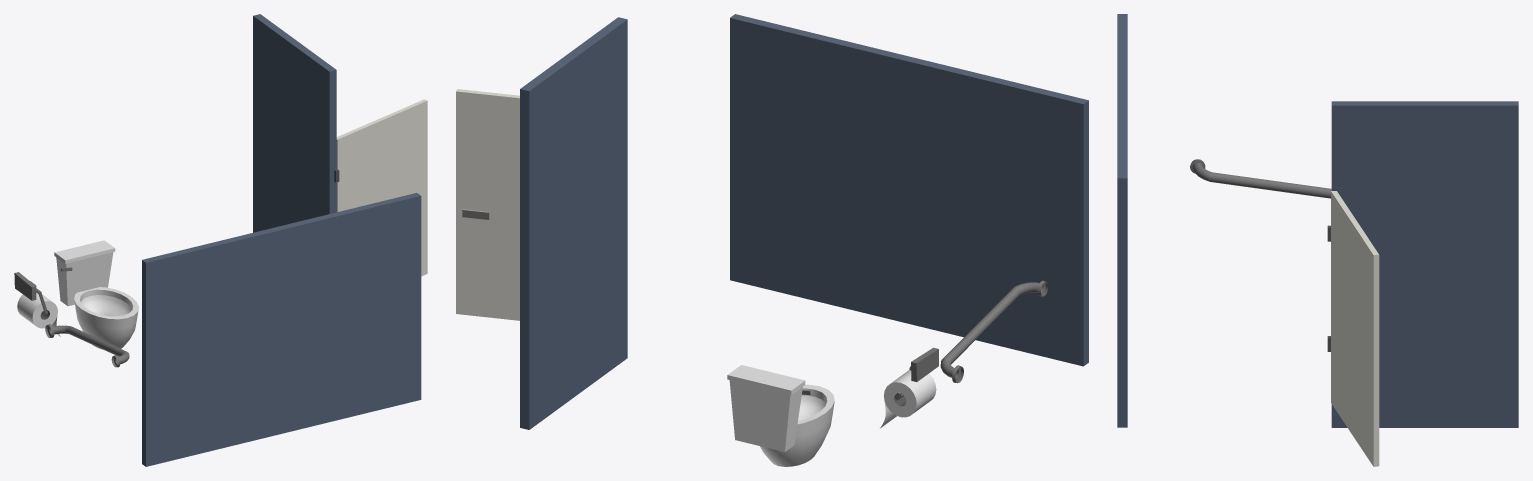
File: GrandeToilette_03.fbx
The picture shows the model from 3 angles, left to right: view 1: azimuth 30°, elevation 25°; view 2: azimuth 150°, elevation 25°; view 3: azimuth 270°, elevation 25°; orthographic projection. The views are drawn at different scales.
Visible parts, largest first — view 1: grandCabinet, porte; view 2: grandCabinet, porte; view 3: grandCabinet, porte.
Part boxes in pixels (bbox=[...]): grandCabinet: bbox=[14, 14, 421, 466]; porte: bbox=[336, 99, 427, 276]; grandCabinet: bbox=[520, 14, 1088, 466]; porte: bbox=[456, 89, 519, 320]; grandCabinet: bbox=[1117, 14, 1518, 427]; porte: bbox=[1331, 191, 1379, 466].
Size of the model in its own units: 535 by 350 by 393.
